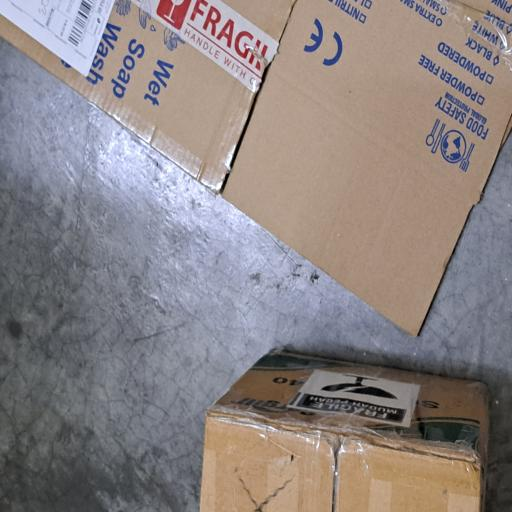cardboard: (131, 0, 384, 512), (0, 266, 122, 512)
